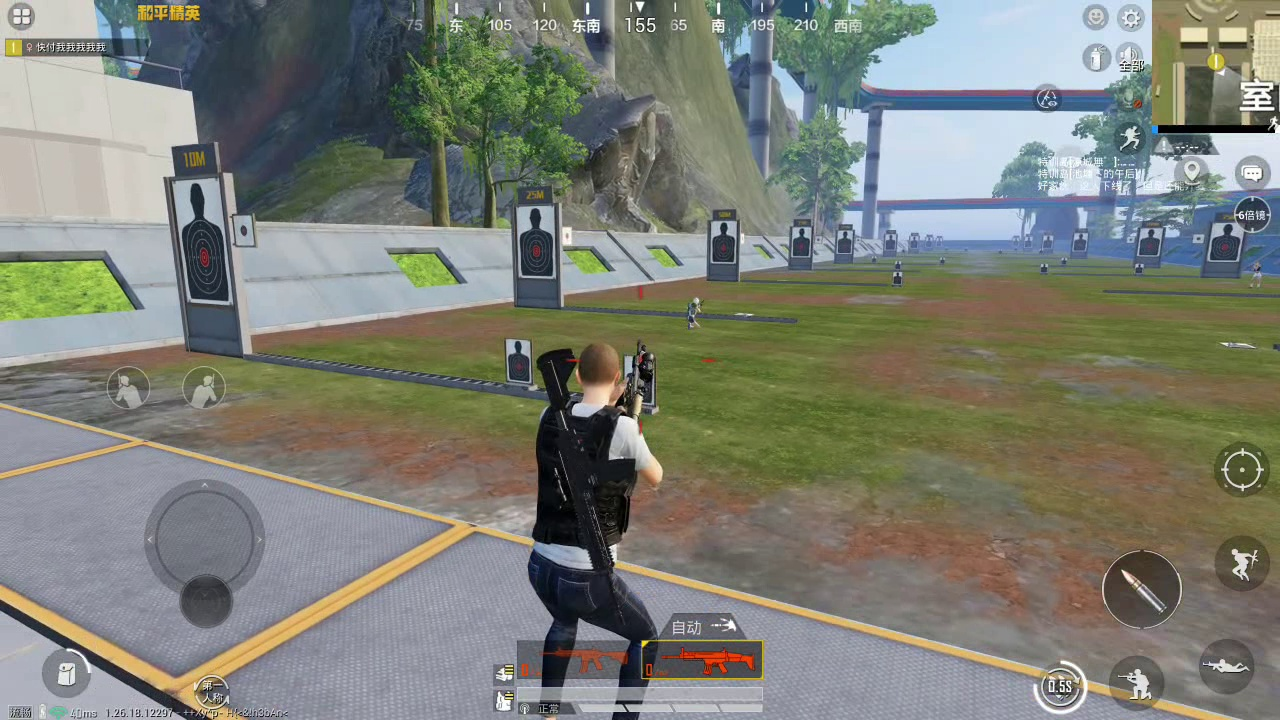enemy: (686, 293, 701, 329)
